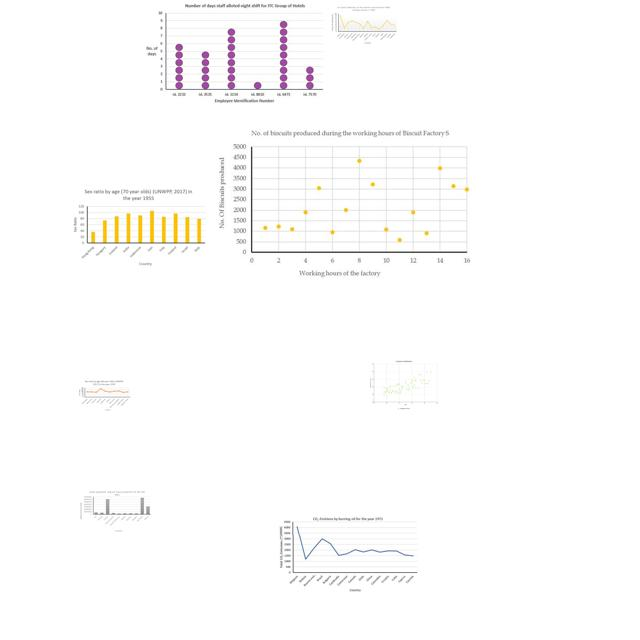Graph: (214, 122, 475, 281), (140, 1, 327, 107), (69, 187, 207, 267), (279, 516, 418, 593), (369, 359, 439, 410), (78, 490, 152, 533), (330, 5, 398, 45), (77, 379, 131, 412)
